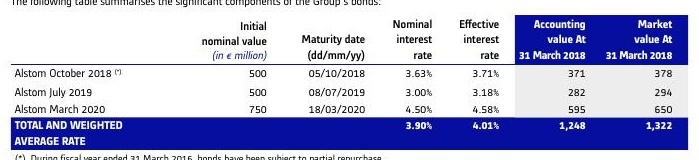table: (0, 0, 699, 160)
